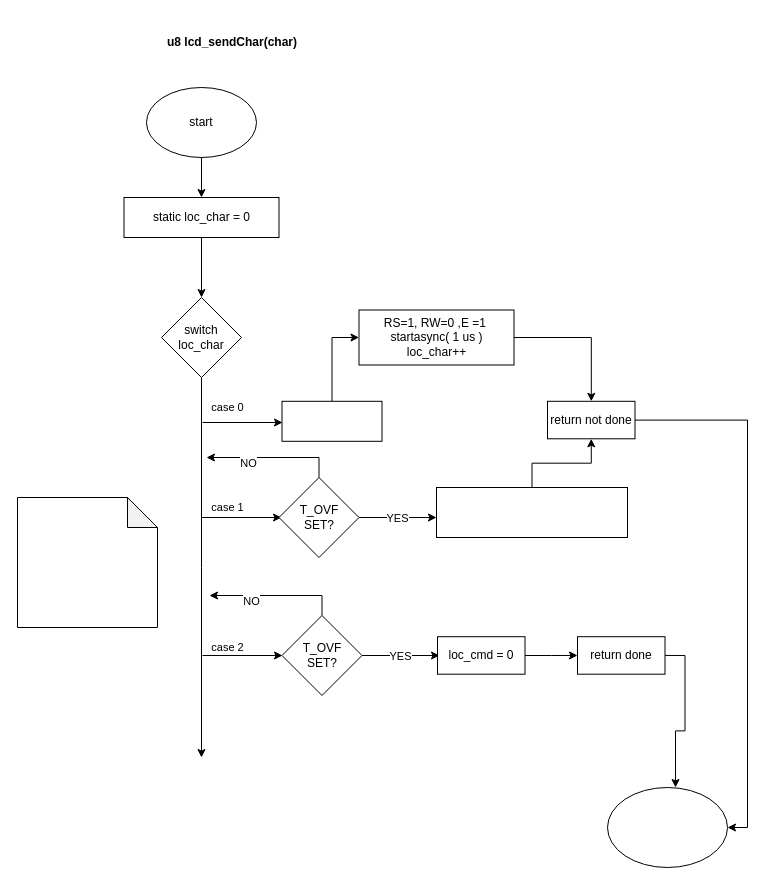
Some shapes in this 773 by 885 pixel diagram are drawn without their labels. The centre of each missing label's shape, as x and y in pixels:
"end" belongs at point 667,827.
"lcd_data_port = char" belongs at point 331,420.
"note this function must called in a loop T_OVF Flag must cleared before calling" belongs at point 87,562.
"startasync( 3 ms ) loc_char++" belongs at point 532,512.
